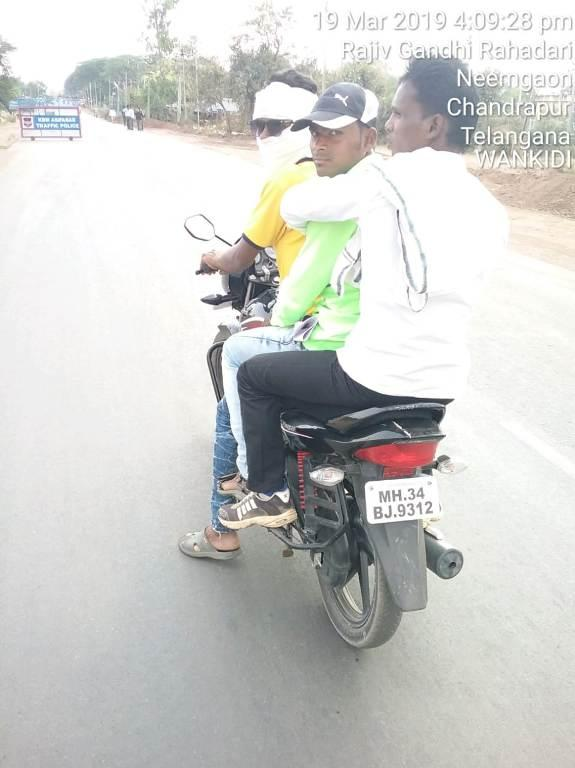plate: (351, 471, 468, 537)
